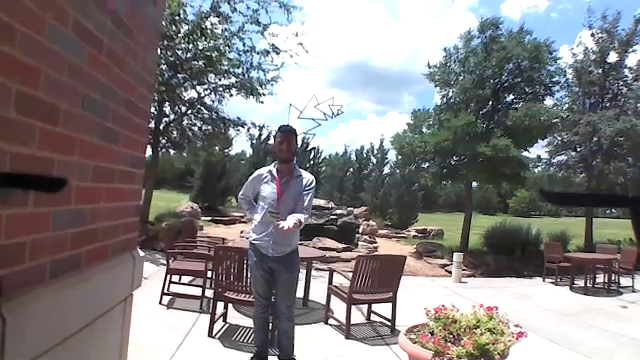land: (270, 211, 301, 234)
